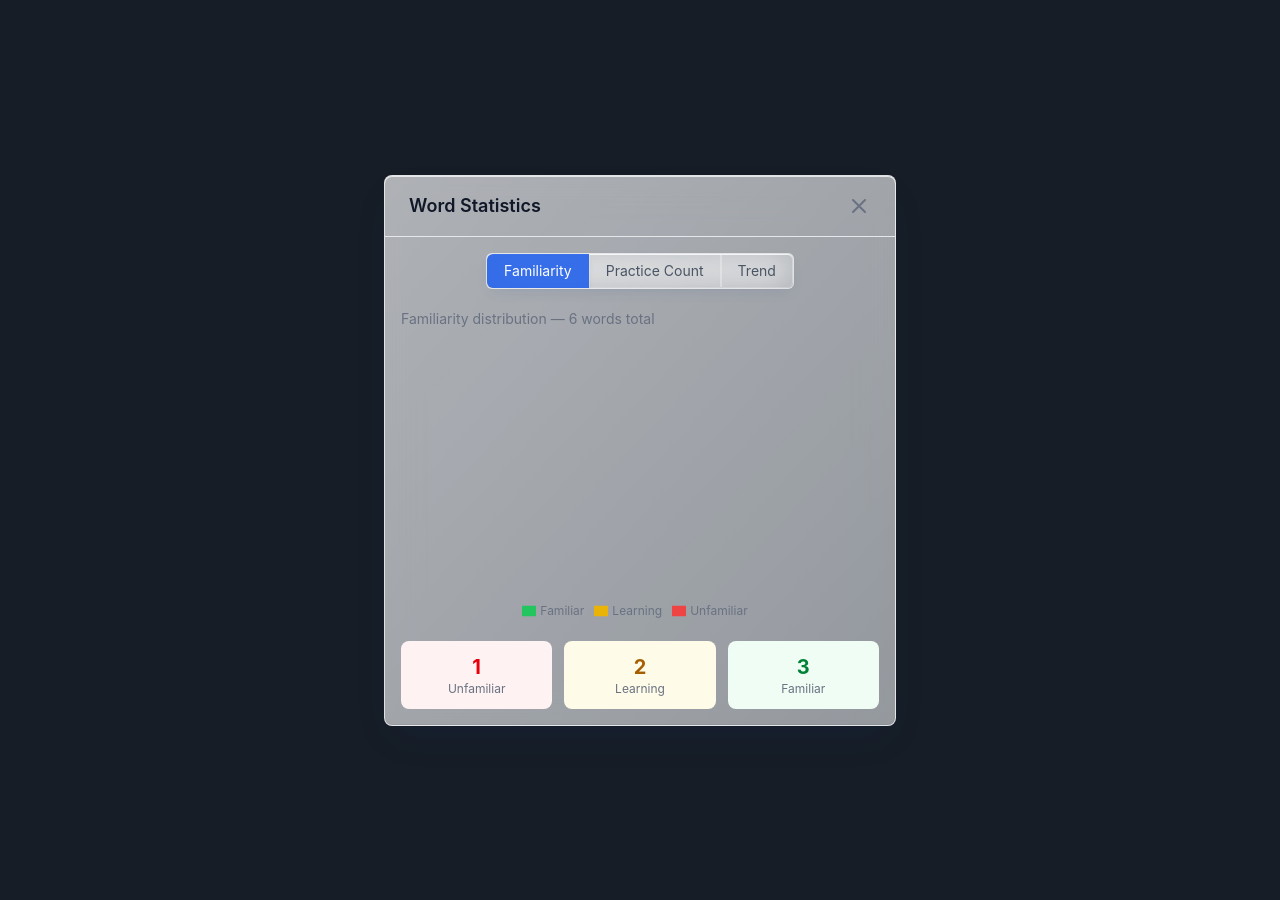
Test: WordStatsModal › switches back to the familiarity tab after viewing another tab
Expected: the text "Familiarity distribution — 6 words total" is shown, [401,310,654,326]
What coordinates should you click on to do the following:
click the button "Practice Count"
I would click on:
 (655, 270)
Its box is [589,254,721,288].
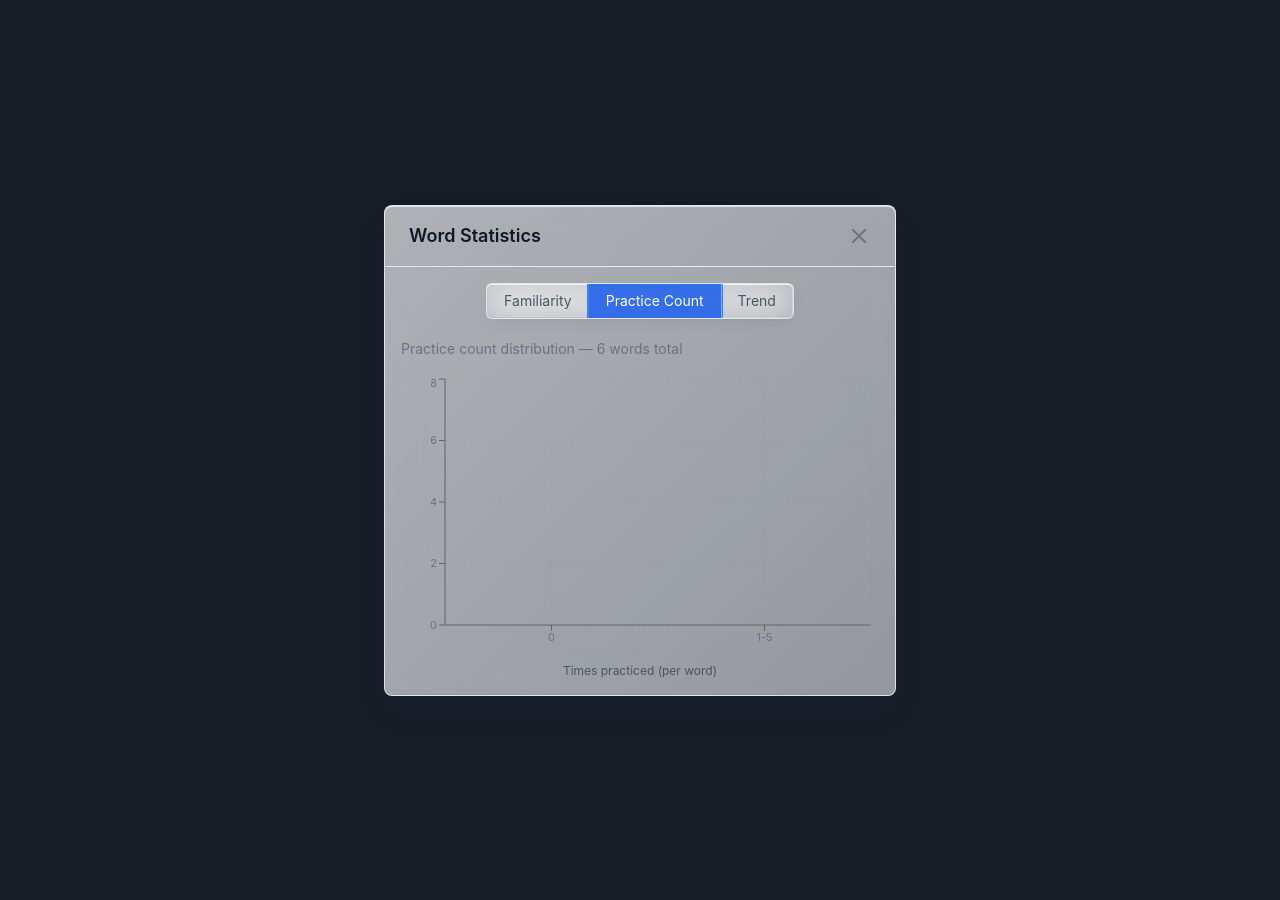
Expected: the text "Practice count distribution — 6 words total" is shown, [401,340,683,356]
What coordinates should you click on to do the following:
click the button "Familiarity"
I would click on:
 (538, 300)
Its box is [487,284,589,318].
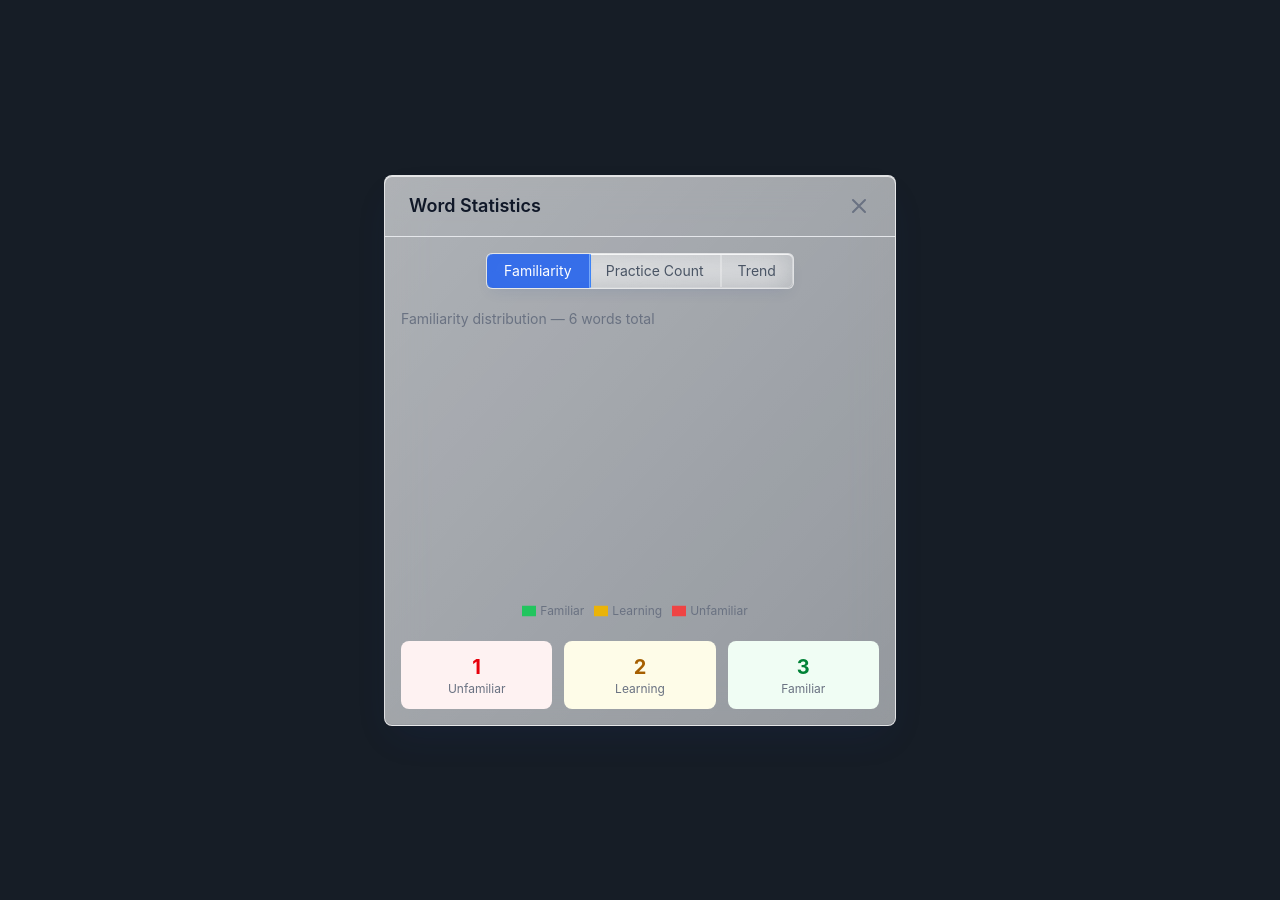
Expected: the text "Familiarity distribution — 6 words total" is shown, [401,310,654,326]
